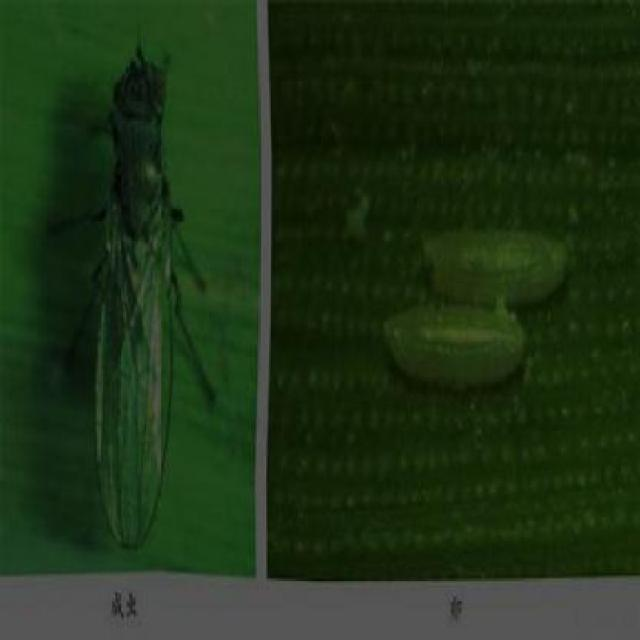whorl-maggot: (408, 209, 575, 309), (377, 297, 534, 400)
